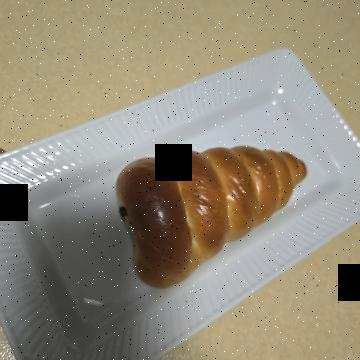cream horn: (135, 45, 308, 263)
